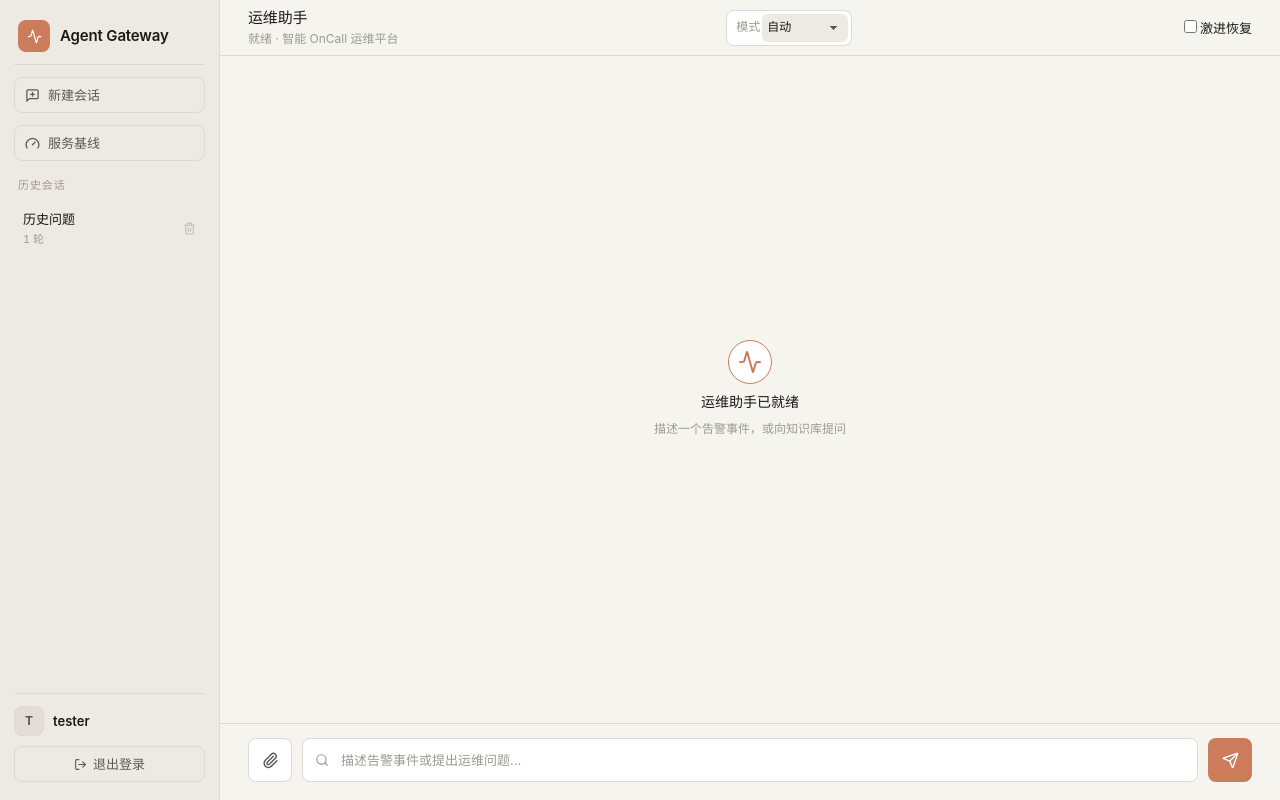
Test: multi-turn conversation UI › deletes a conversation from the sidebar
Expected: the button titled "历史问题" is shown, [15,201,170,256]
Click the button named "删除会话 历史问题" at (189, 229), box [174,214,204,244]
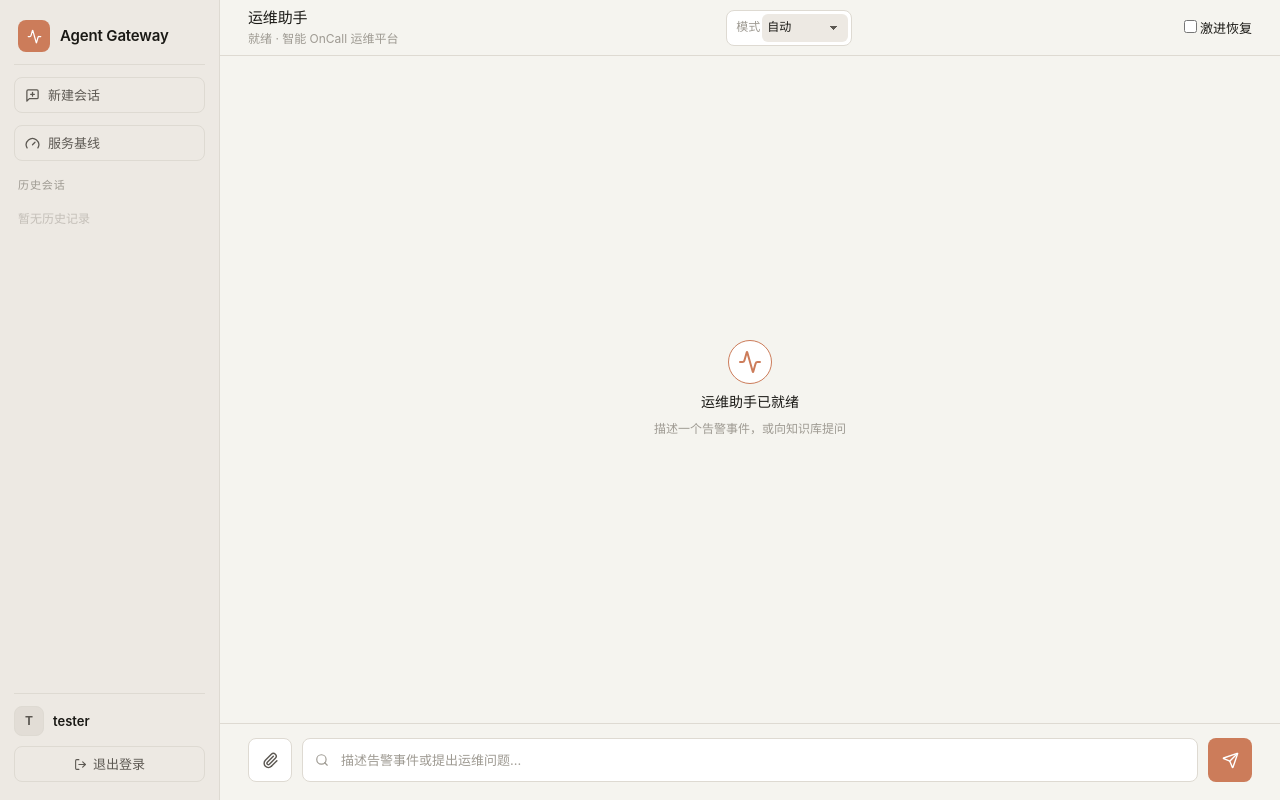
Expected: the button titled "历史问题" is gone
